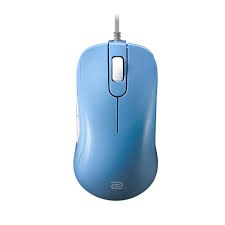mouse: (68, 39, 165, 202)
